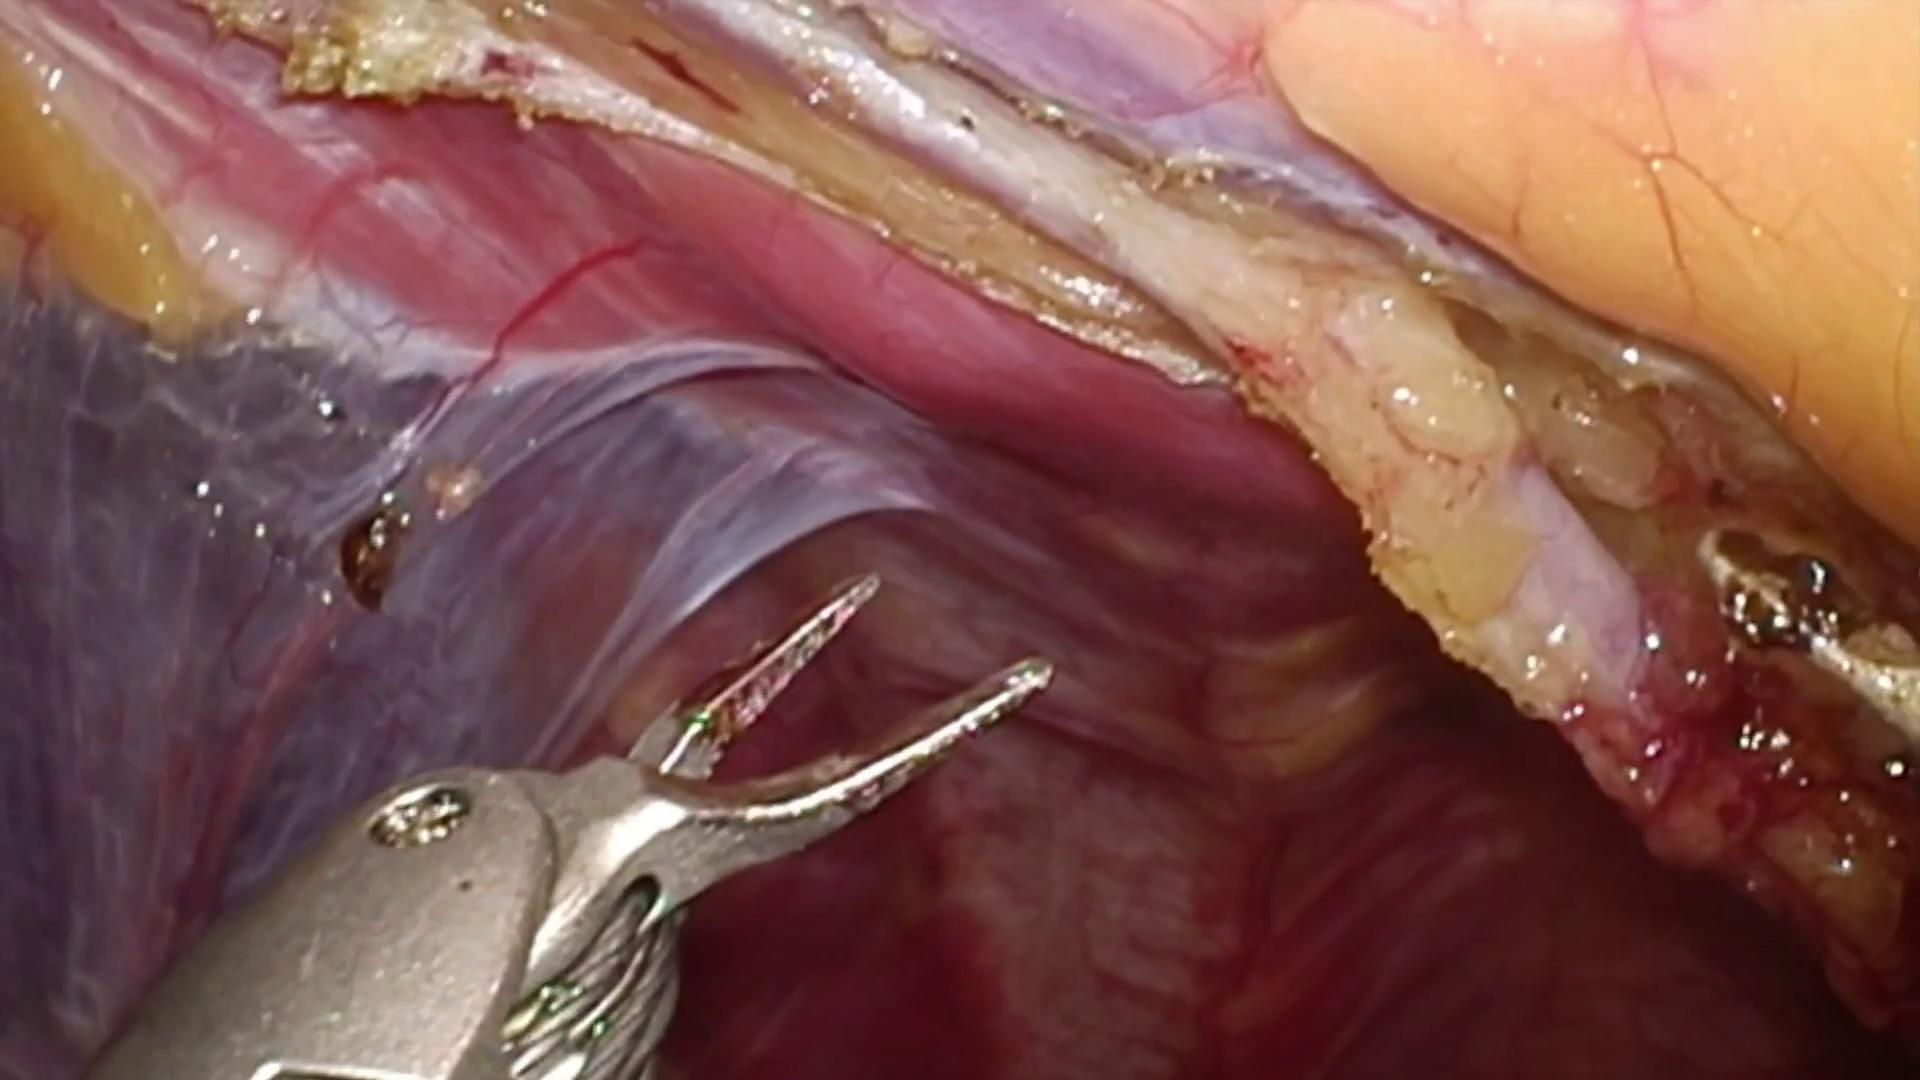Cautery_Spatula: (1696, 517, 1920, 787)
Debakey: (518, 541, 1056, 894)
